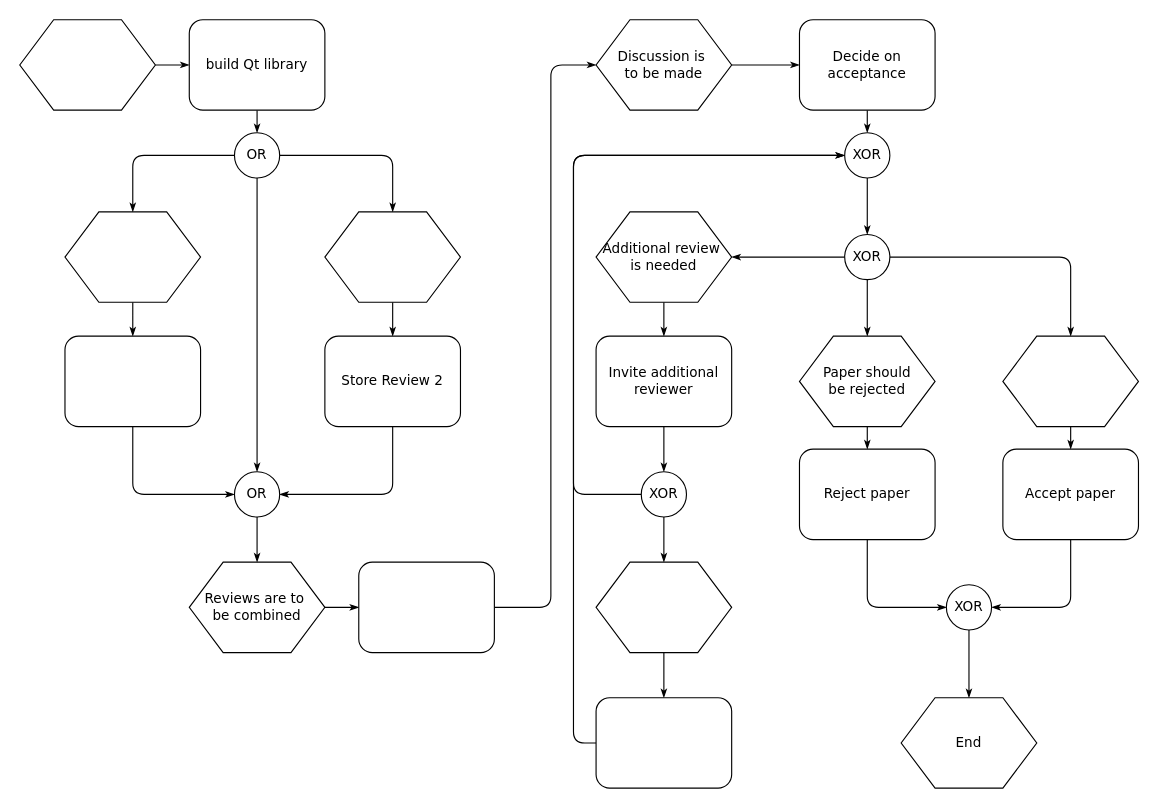
Some shapes in this 1158 by 808 pixel diagram are drawn without their labels. The centre of each missing label's shape, as x and y in pixels:
"build Qt Creator" goes at point 426,607.
"Combine review X with others" goes at point 663,742.
"Linux" goes at point 132,256.
"macOS" goes at point 392,256.
"Paper should be accepted" goes at point 1070,381.
"Review X was received" goes at point 663,607.
"Start building Qt" goes at point 87,64.
"Store Review 1" goes at point 132,381.
